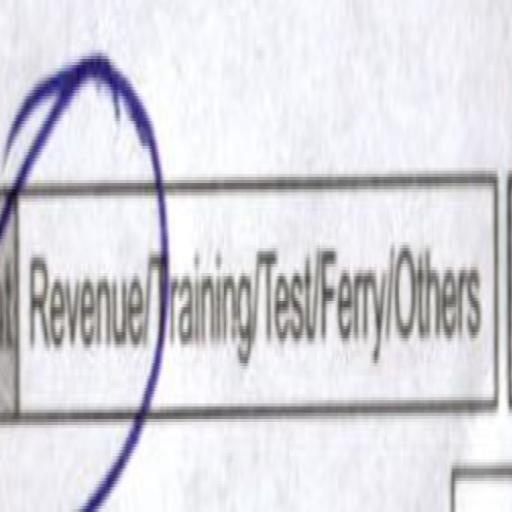check: (17, 41, 148, 512)
